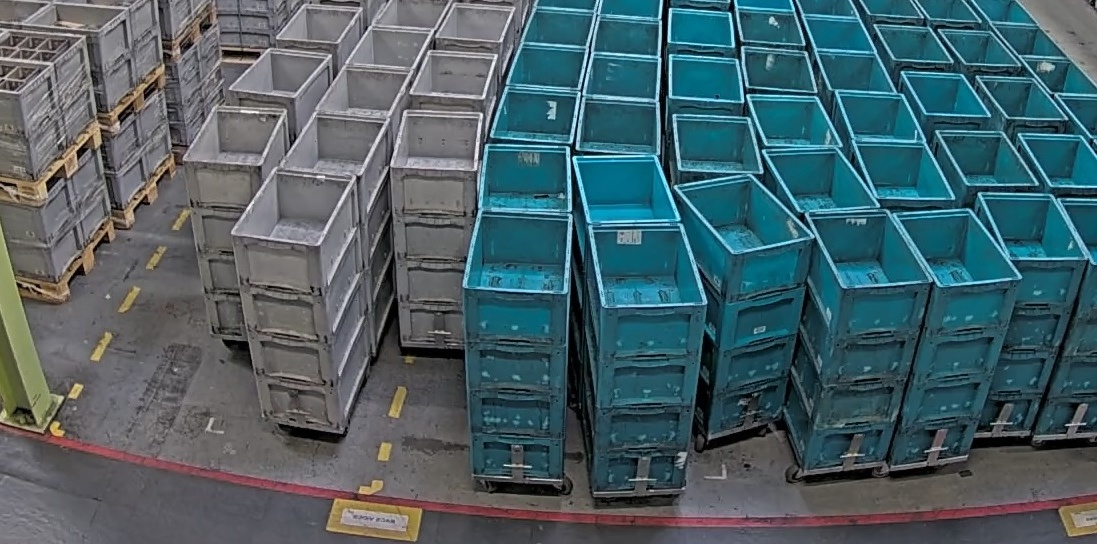4G: (230, 167, 372, 430), (181, 105, 291, 337), (389, 109, 484, 346)
B4: (781, 206, 935, 470), (671, 172, 817, 435), (580, 221, 709, 493), (889, 207, 1023, 468), (461, 207, 574, 480), (963, 191, 1086, 435)
